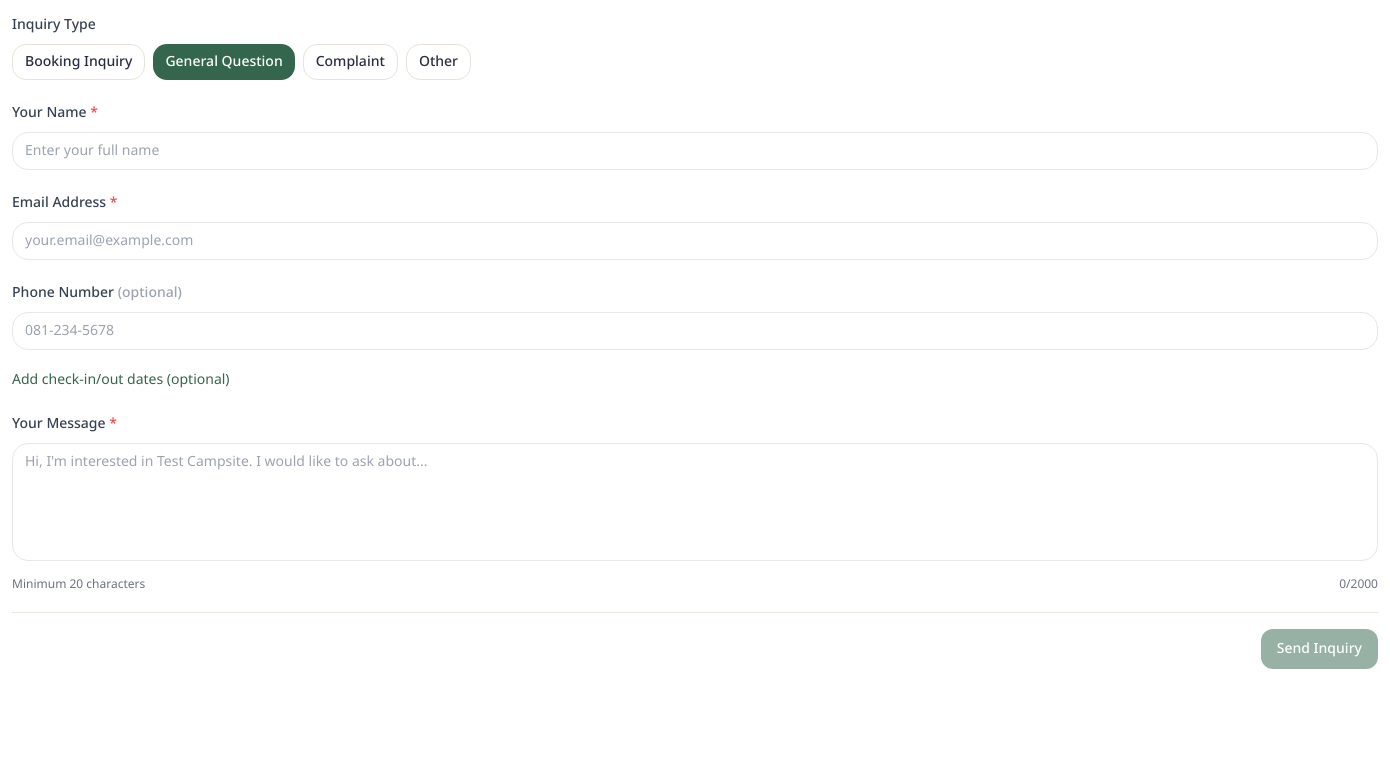
Test: InquiryForm › Form Validation › shows error for invalid email format
The width and height of the screenshot is (1390, 780).
Type "invalid-email" into the field labelled "Email Address *" at (695, 241), box [12, 222, 1378, 260]
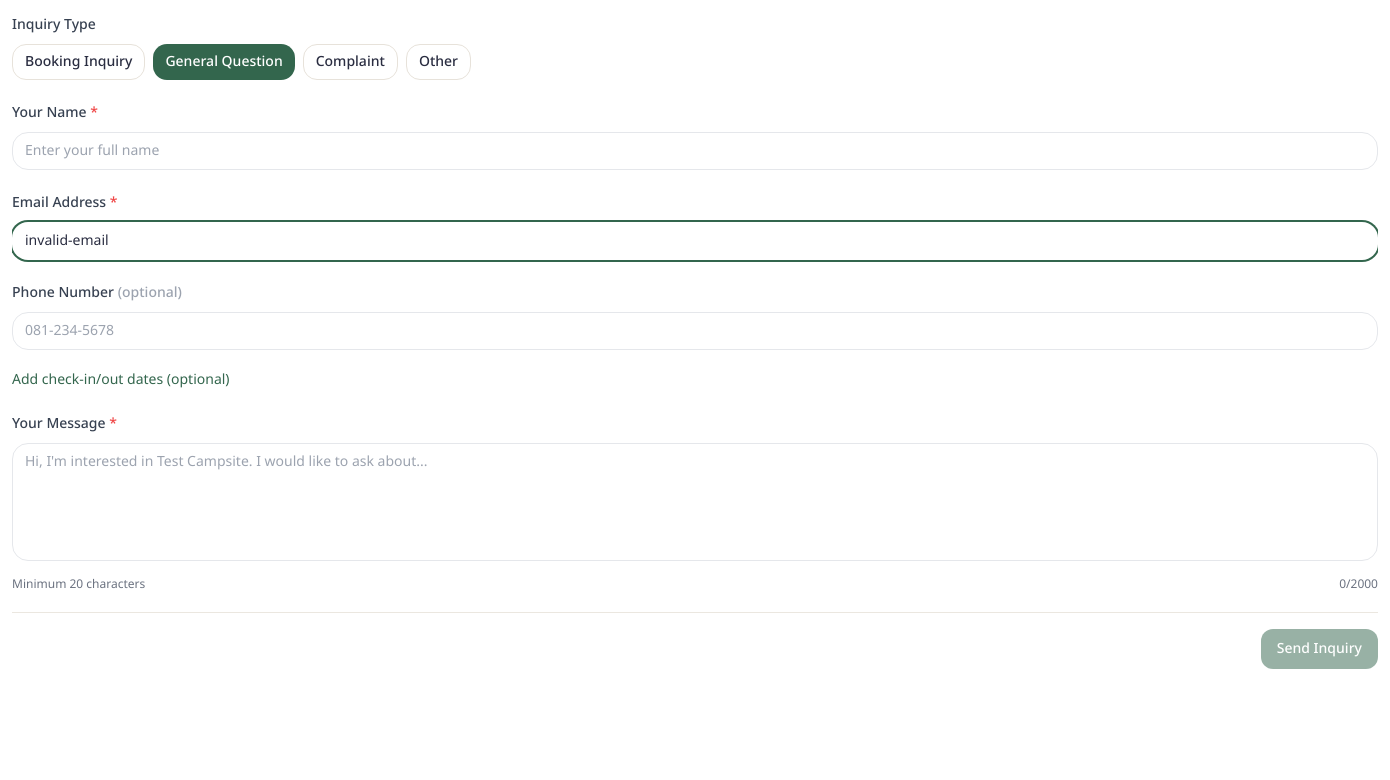
Type "This is a valid test message with at least 20 characters." into the text box labelled "Your Message *" at (695, 502), box [12, 443, 1378, 561]
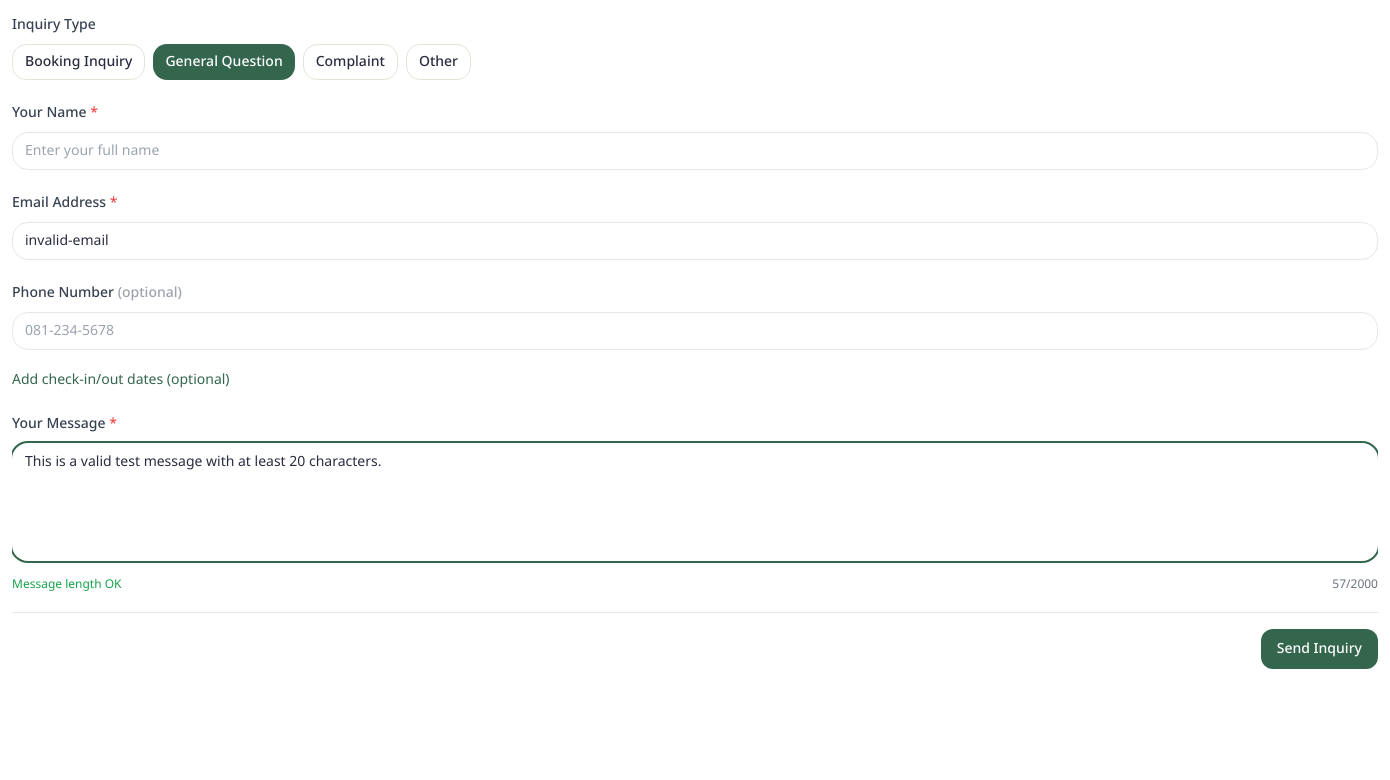
Click the button "Send Inquiry" at (1319, 649), box [1261, 629, 1378, 669]
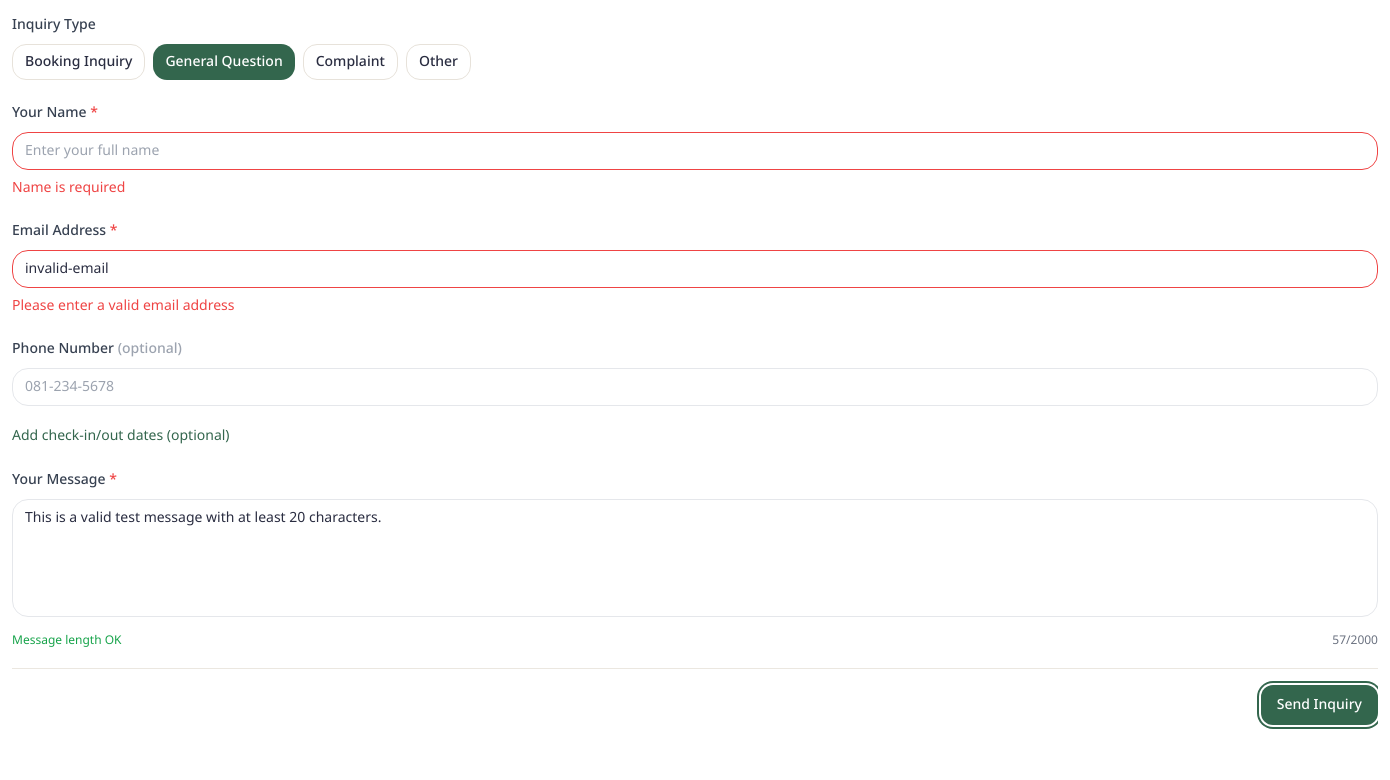
Result: the text "Please enter a valid email address" is shown at [12, 295, 234, 316]
